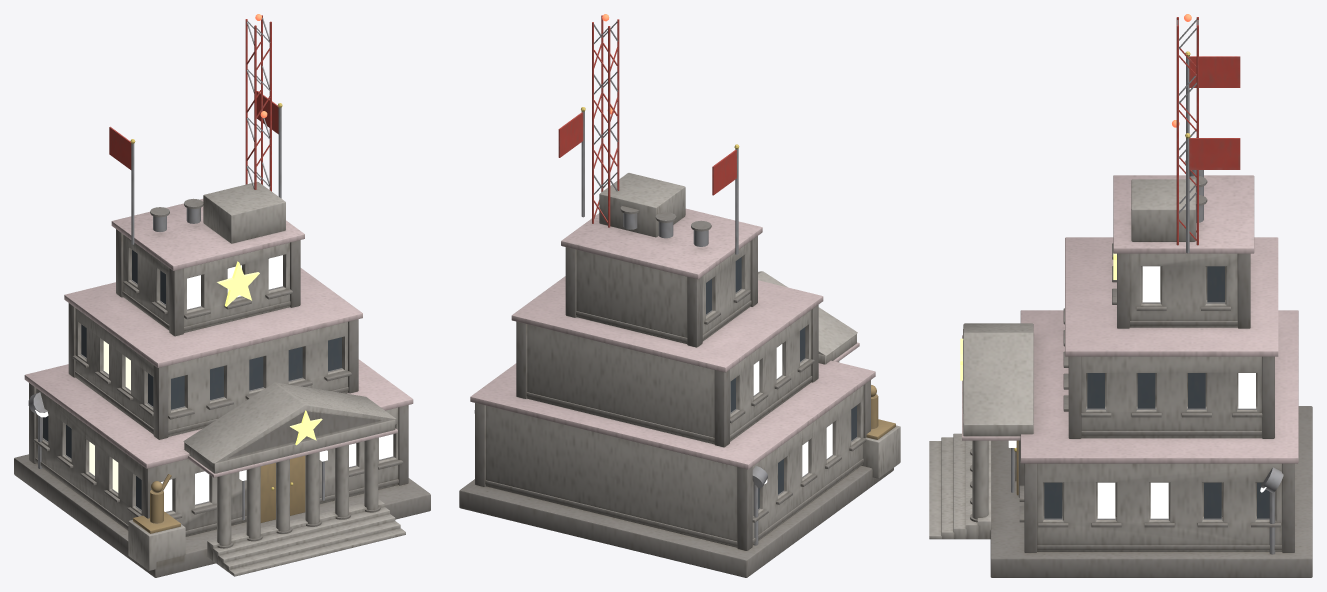
The model's file is red_hq.glb.
3 renders of one model, left to right at view 1: azimuth 30°, elevation 25°; view 2: azimuth 150°, elevation 25°; view 3: azimuth 270°, elevation 25°, orthographic. The views are drawn at different scales.
Parts seen in each view (by area): view 1: Hull; view 2: Hull; view 3: Hull.
Boxes of the visible parts, left/top/right/bottom form: Hull: left=14, top=14, right=430, bottom=577; Hull: left=459, top=14, right=900, bottom=577; Hull: left=929, top=14, right=1312, bottom=577.
Bounding box in the file's own units: 9.2 × 14.16 × 9.52.
Materials: 12 (12 with a texture image).
